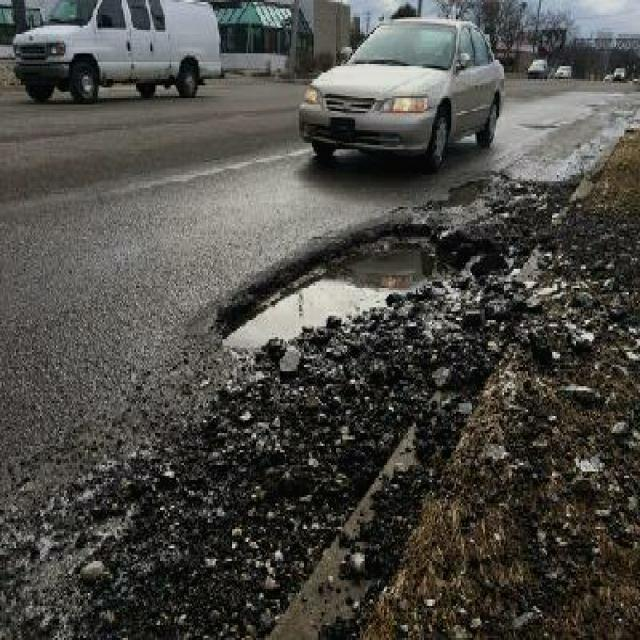Pothole: (213, 215, 461, 356), (426, 171, 498, 213)
